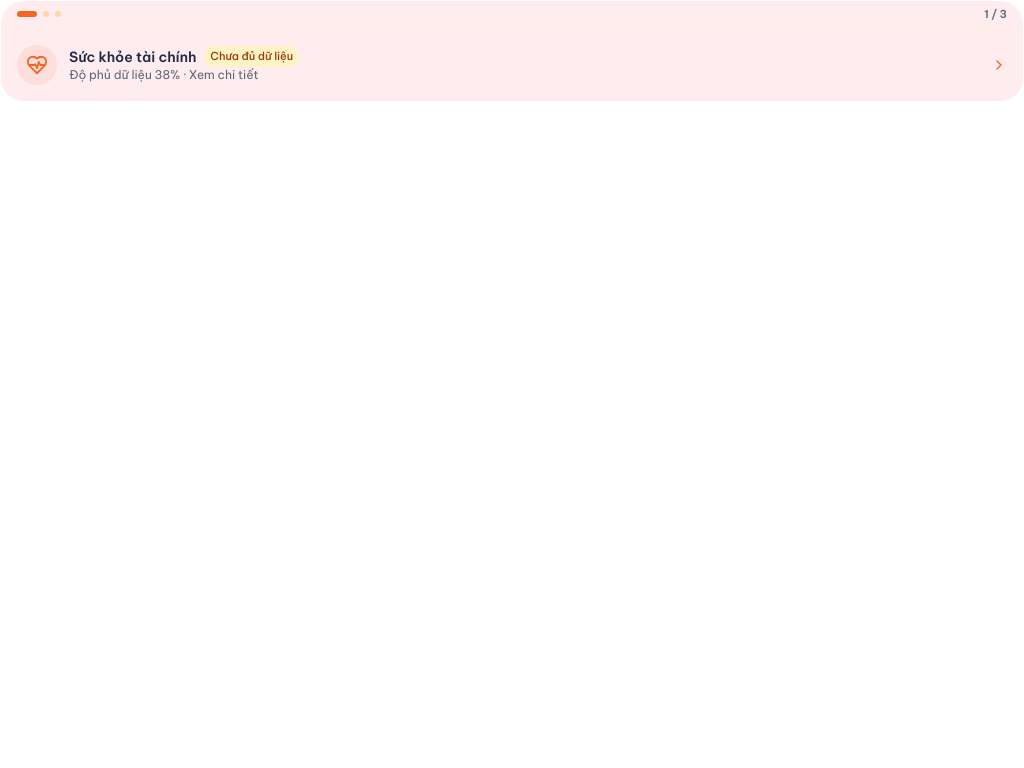
HomeInsightWidget Carousel & Health Score › handles honest insufficient-data state when overallScore is null
Expected: the text "Chưa đủ dữ liệu" is shown, left=204, top=46, right=299, bottom=67
Click the button with aria-label "Xem chi tiết Sức khỏe tài chính: Chưa đủ dữ liệu".
click(37, 65)  # box left=1, top=29, right=1023, bottom=101
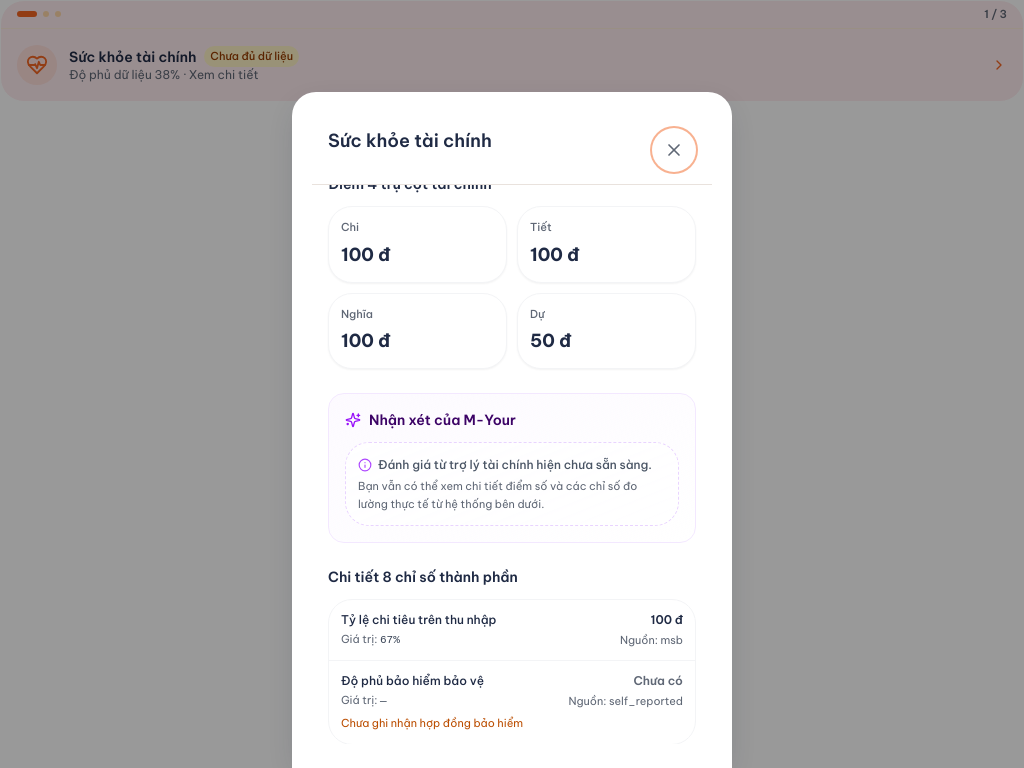
Expected: the text "Đánh giá từ trợ lý tài chính hiện chưa sẵn sàng." is shown, left=358, top=455, right=666, bottom=474
